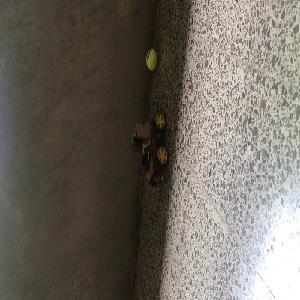Ball: (146, 49, 156, 70)
Robot: (130, 112, 169, 187)
